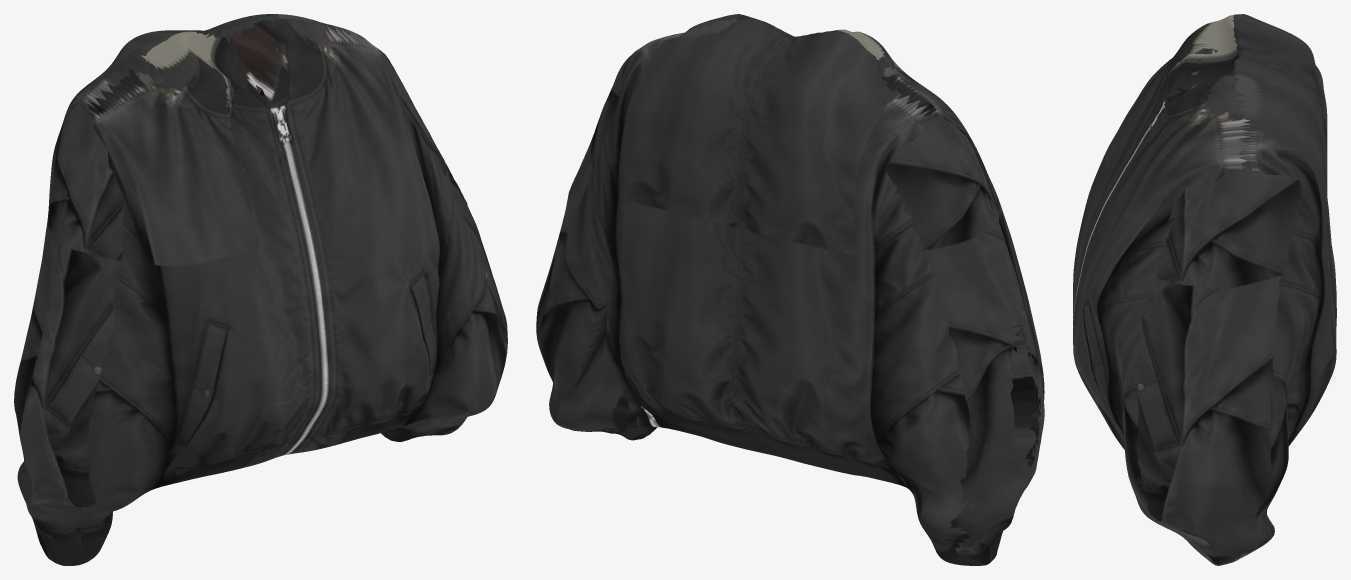
The model's file is NF001-photo-v4.glb.
3 views of the same model, side by side, from view 1: azimuth 30°, elevation 25°; view 2: azimuth 150°, elevation 25°; view 3: azimuth 270°, elevation 25° (orthographic). The views are drawn at different scales.
Parts seen in each view (by area): view 1: NF001_worn_photo_fitted; view 2: NF001_worn_photo_fitted; view 3: NF001_worn_photo_fitted.
Part boxes in pixels (x1,y1,x2,y2): NF001_worn_photo_fitted: (14, 14, 507, 565); NF001_worn_photo_fitted: (536, 14, 1044, 565); NF001_worn_photo_fitted: (1073, 14, 1336, 565).
Size of the model in its own units: 0.6247 by 0.6077 by 0.3157.
Materials: 3 (3 with a texture image).
